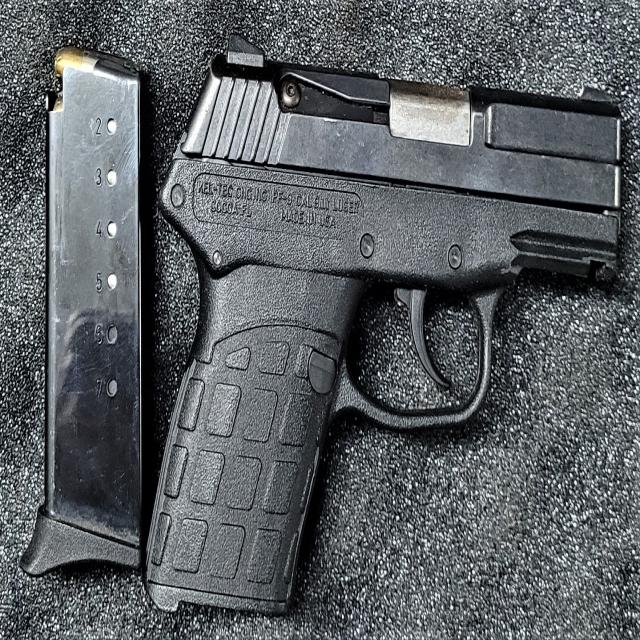HandGun: (147, 35, 623, 615)
